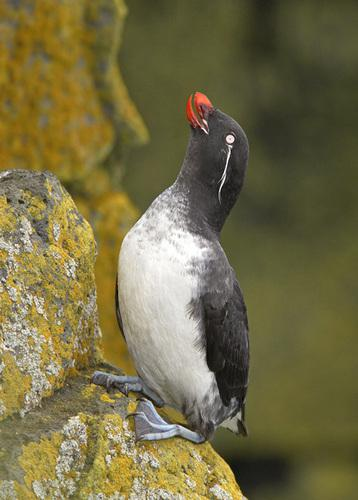007.Parakeet_Auklet: (78, 85, 260, 446)
